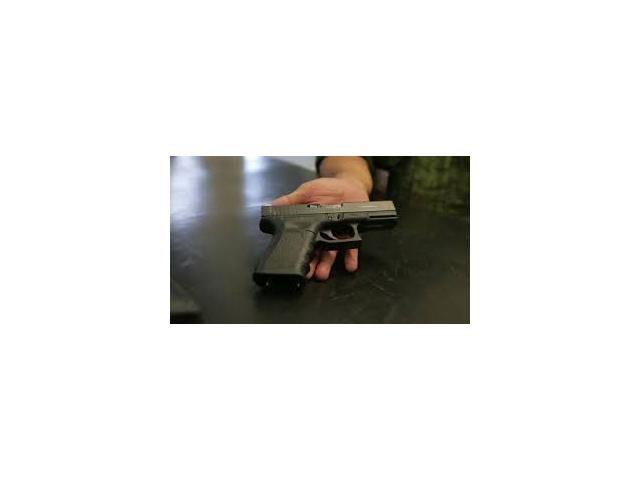pistol: (250, 201, 399, 294)
